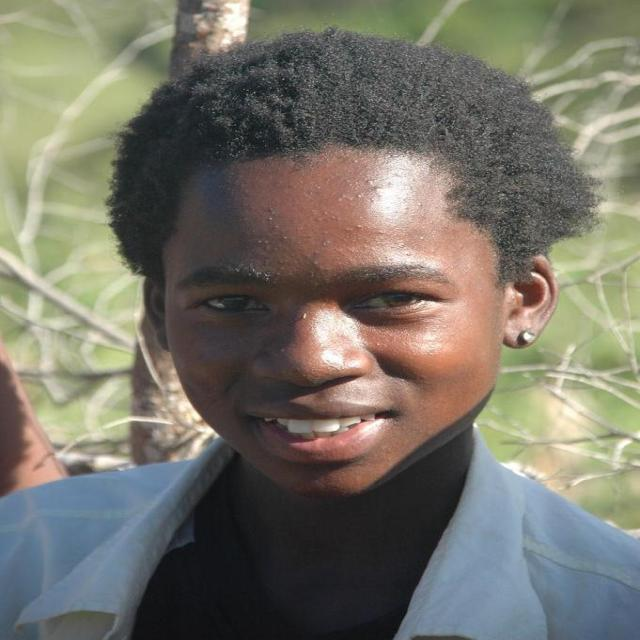no-glass: (182, 279, 430, 317)
